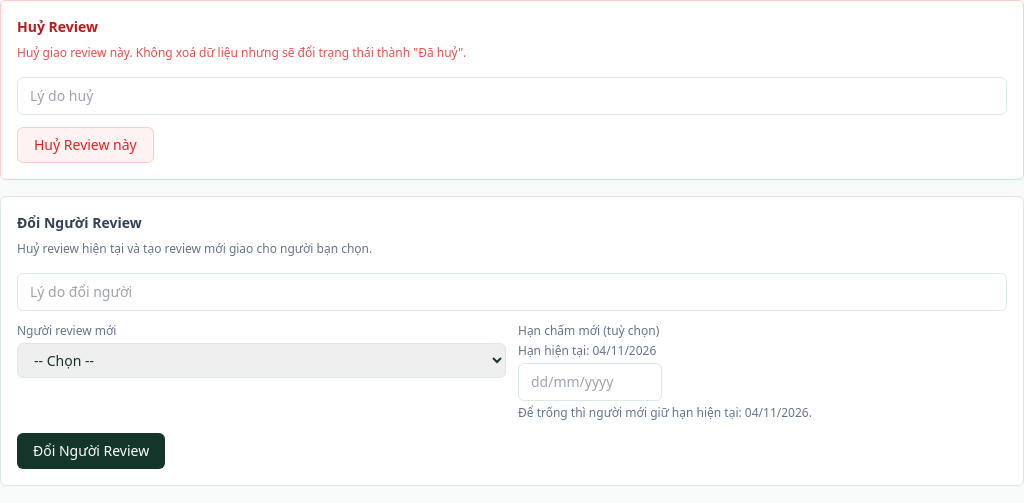
it: Đổi Người Review — hạn chấm mới › gõ dở: khoá nút — nếu không, đổi người mà rơi mất hạn người vận hành đang nhìn thấy
The width and height of the screenshot is (1024, 503).
Type "30/09" into the field named "Hạn chấm mới — dạng ngày/tháng/năm" at [590, 382], box [518,363,662,401]
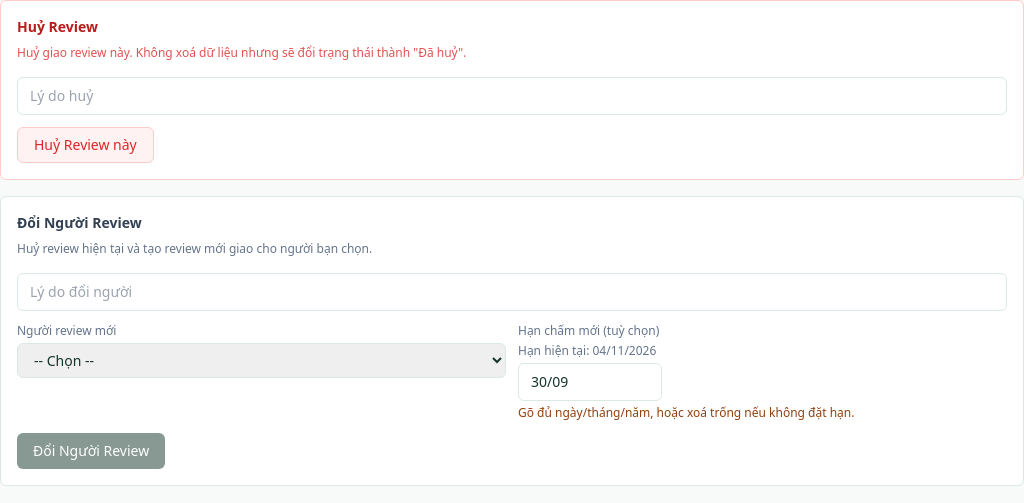
Expected: the button "Đổi Người Review" is disabled, [17,433,165,469]
